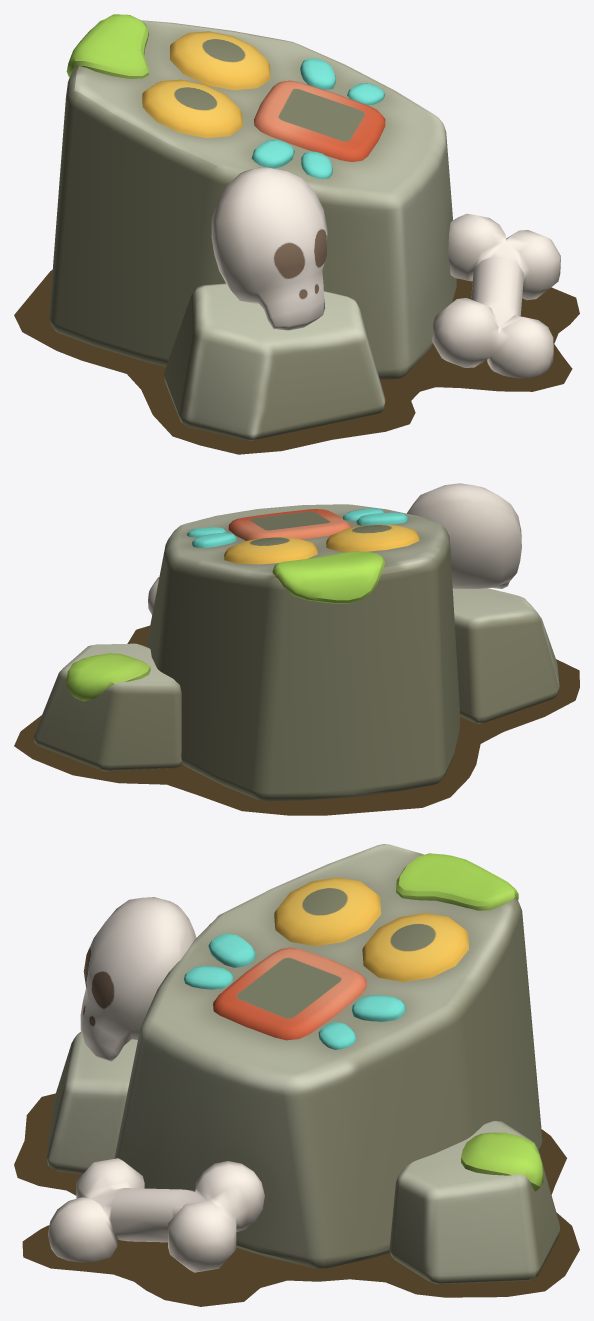
The model's file is RockSculp02.fbx.
The picture shows the model from 3 angles, top to bottom: view 1: azimuth 30°, elevation 25°; view 2: azimuth 150°, elevation 25°; view 3: azimuth 270°, elevation 25°; orthographic projection. The views are drawn at different scales.
Parts seen in each view (by area): view 1: polySurface6, polySurface4, polySurface15, polySurface14; view 2: polySurface6, polySurface4, polySurface8, polySurface15; view 3: polySurface6, polySurface8, polySurface4, polySurface15, polySurface14.
Part boxes in pixels (x1,y1,x2,y2): polySurface6: (49, 14, 456, 379); polySurface4: (163, 167, 385, 440); polySurface15: (14, 270, 579, 454); polySurface14: (432, 213, 560, 378); polySurface6: (146, 504, 459, 801); polySurface4: (407, 483, 559, 723); polySurface8: (34, 643, 181, 771); polySurface15: (14, 625, 579, 815); polySurface6: (114, 844, 542, 1268); polySurface8: (389, 1121, 559, 1284); polySurface4: (46, 897, 196, 1174); polySurface15: (14, 1093, 579, 1306); polySurface14: (48, 1158, 264, 1272).
Bounding box in the file's own units: 221 × 126 × 231.
